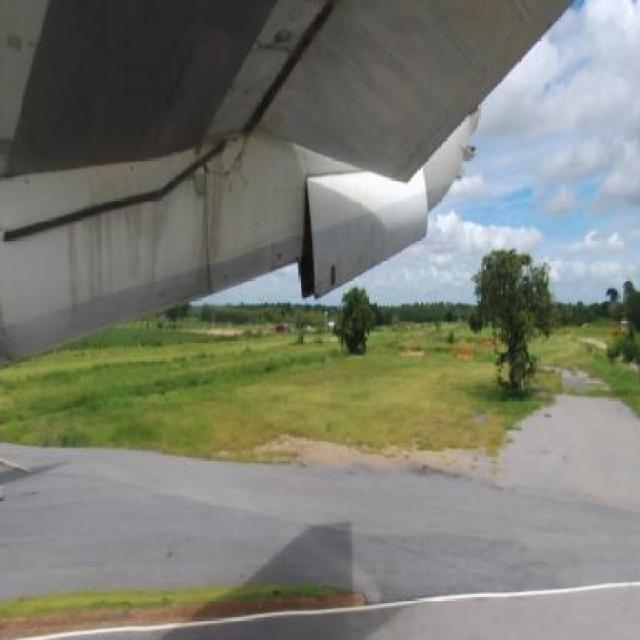Rust: (59, 190, 187, 318), (191, 154, 226, 311)
